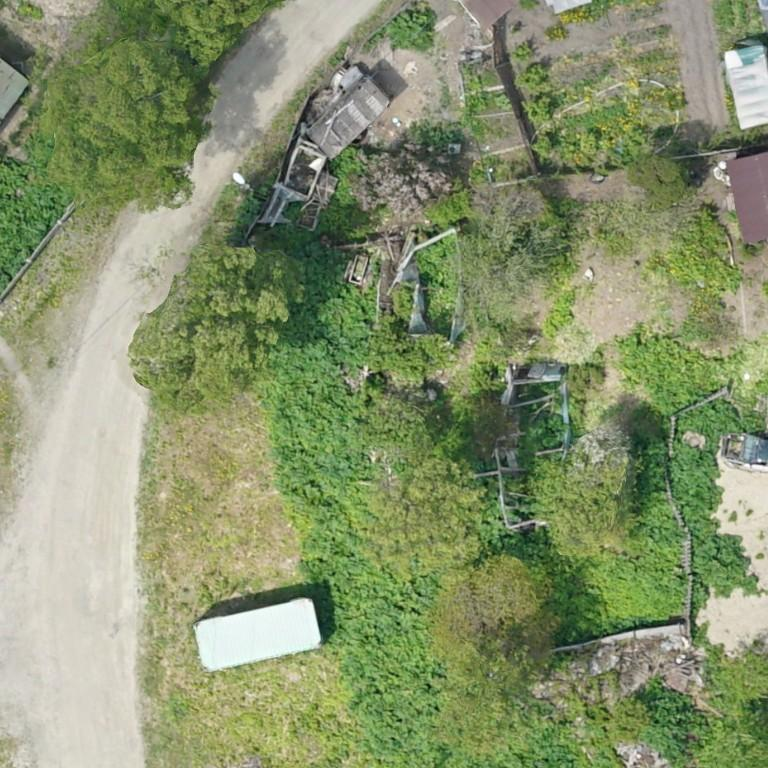hogweed: (263, 263, 447, 767), (670, 400, 755, 611), (636, 679, 705, 767), (384, 10, 435, 47)
